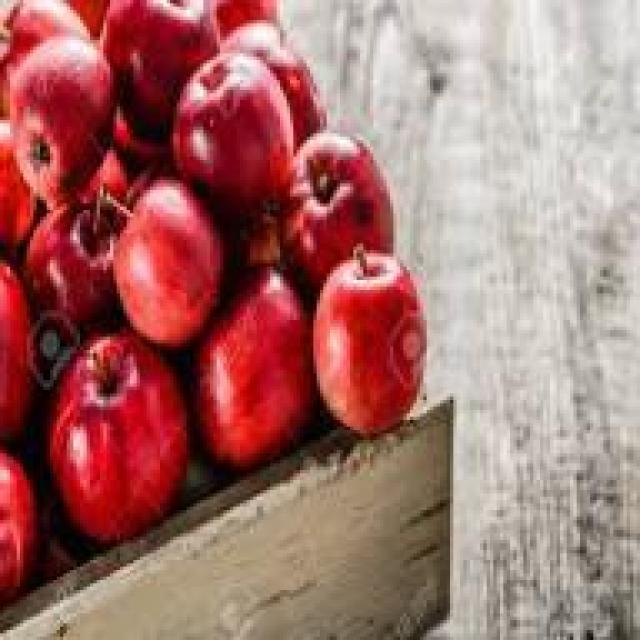apple: (50, 326, 180, 536), (183, 283, 310, 467), (163, 43, 287, 217), (313, 257, 427, 443), (96, 3, 236, 150), (10, 47, 127, 200), (277, 130, 390, 270), (116, 187, 216, 343), (30, 194, 120, 334)
